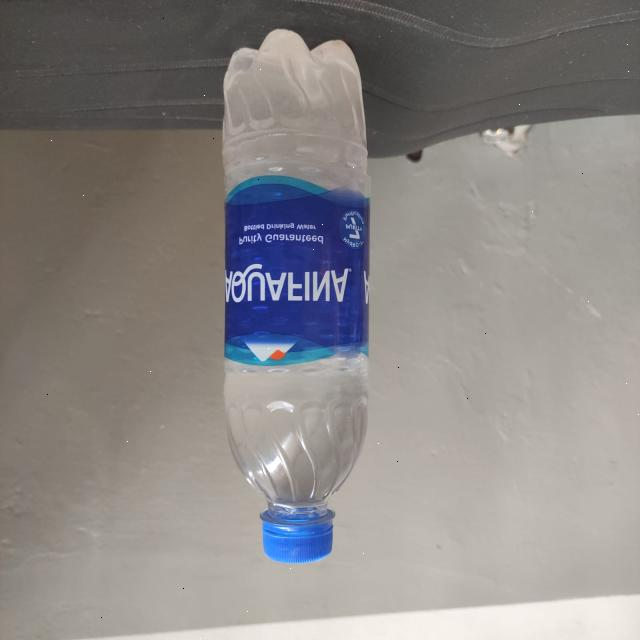bottle: (216, 16, 384, 569)
cap: (256, 499, 342, 568)
label: (225, 174, 372, 360)
